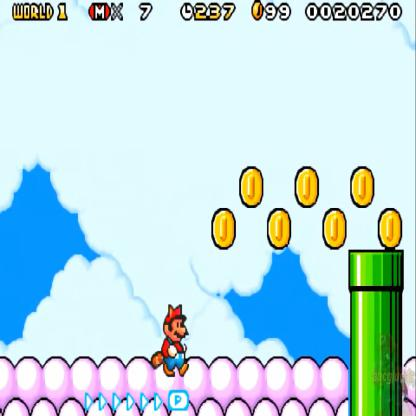Mario: (148, 298, 195, 376)
moneda: (206, 204, 240, 250), (292, 161, 323, 206), (264, 206, 294, 251), (236, 162, 265, 208), (346, 166, 381, 204), (376, 200, 401, 250), (322, 205, 348, 250), (249, 0, 267, 32)
